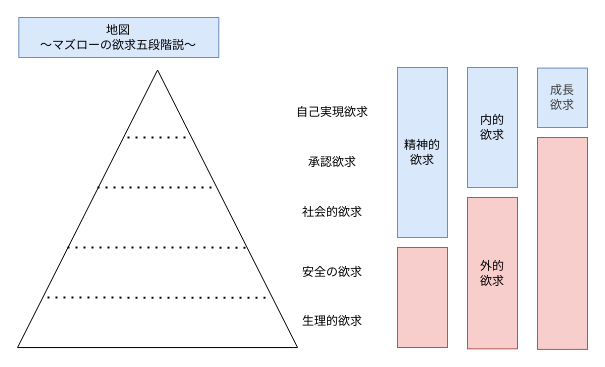
Some shapes in this 605 by 367 pixel diagram are drawn without their labels. The box of each missing label's shape, as (x1, y1, x2, y2) in pixels:
欠乏 欲求: (536, 136, 588, 349)
物質的 欲求: (396, 246, 448, 348)
